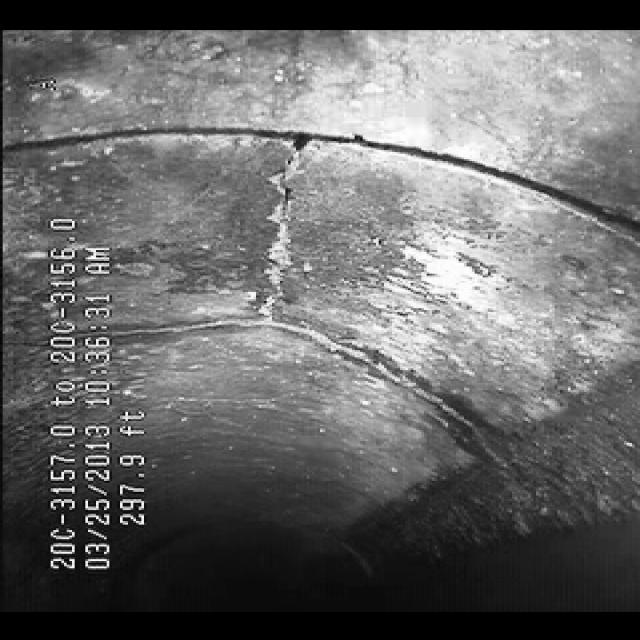Fracture: (214, 144, 354, 352)
